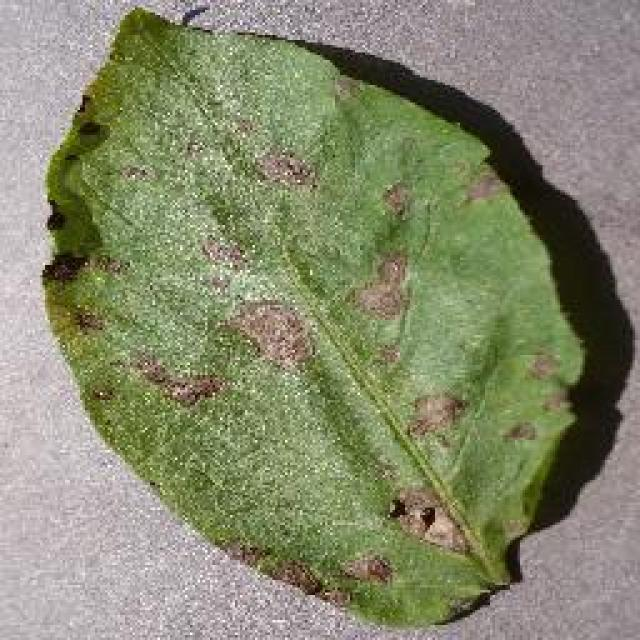early_blight: (35, 2, 595, 632)
